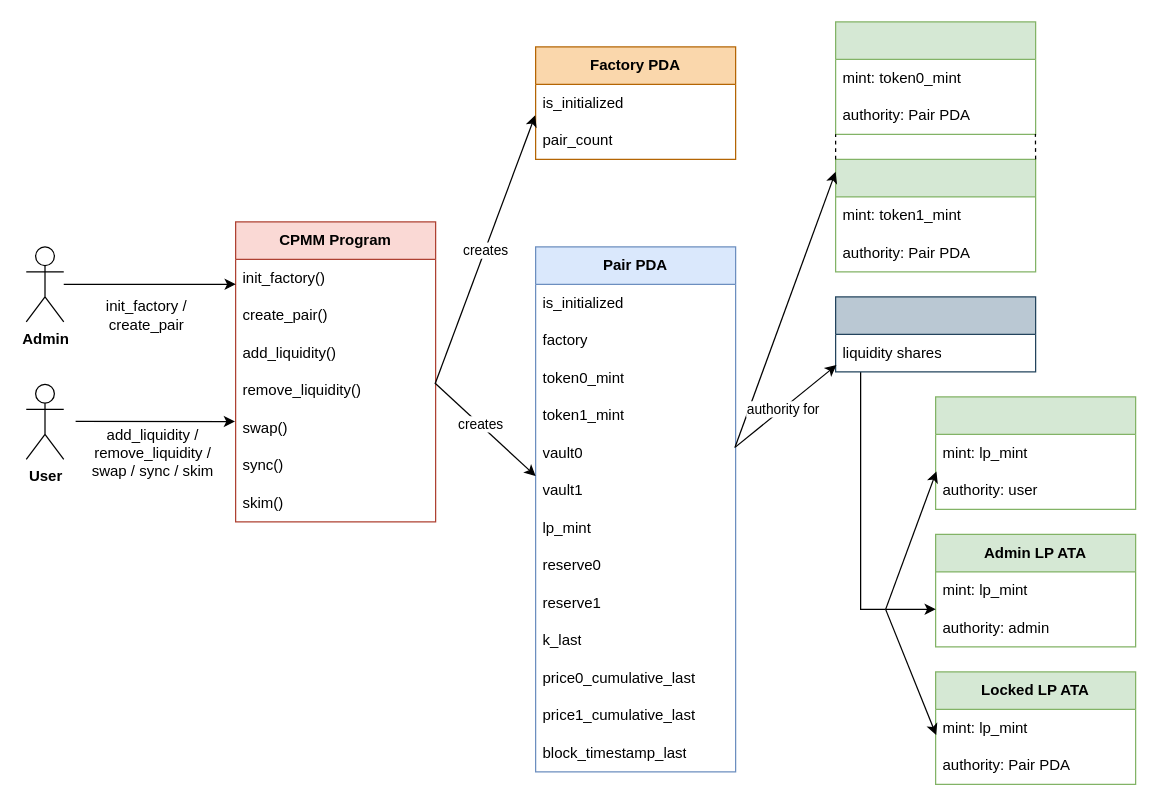
Some shapes in this 1158 by 806 pixel diagram are drawn without their labels. Here are the shapes that lost their labels. From the top down, the box of each, then its label:
(834, 21, 1036, 134): Vault0 ATA
(834, 158, 1036, 272): Vault1 ATA
(834, 296, 1036, 372): LP Mint PDA
(934, 396, 1136, 509): User LP ATA
